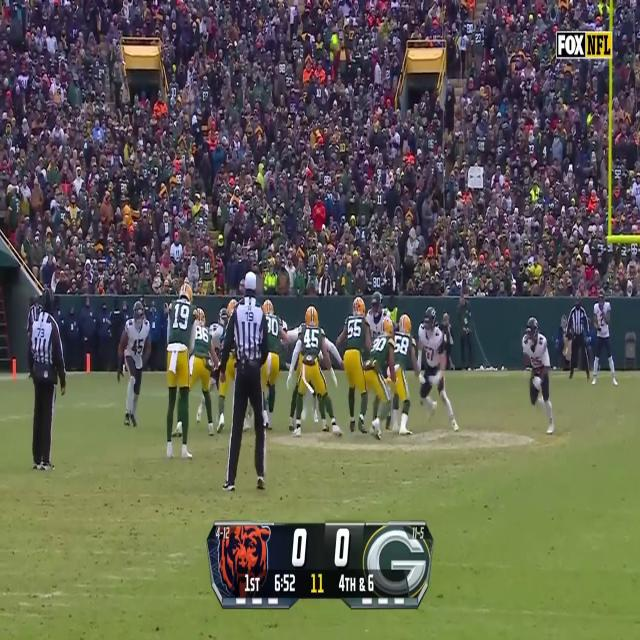Player: (164, 283, 196, 459), (292, 306, 330, 438), (118, 301, 152, 427), (186, 308, 218, 438), (340, 296, 369, 432), (418, 307, 447, 435), (367, 316, 396, 443), (522, 316, 551, 434), (390, 310, 413, 437), (264, 298, 282, 428), (591, 292, 613, 384)
Referee: (224, 268, 269, 494), (27, 292, 65, 470), (566, 295, 590, 380)
